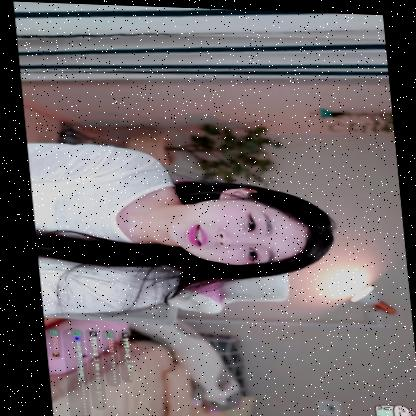streamer: (26, 142, 341, 322)
